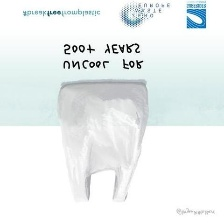plastic_bag: (53, 78, 152, 205)
